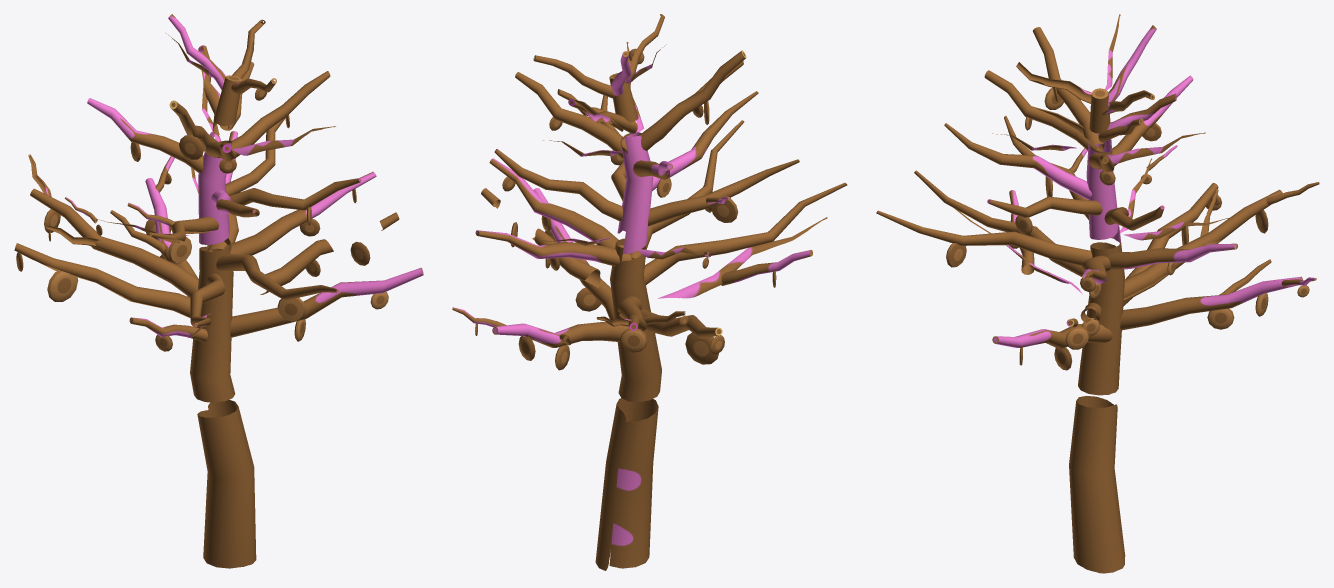
Rendered from Cookie_Tree.FBX.
3 views of the same model, side by side, from view 1: azimuth 30°, elevation 25°; view 2: azimuth 150°, elevation 25°; view 3: azimuth 270°, elevation 25° (orthographic). The views are drawn at different scales.
Visible parts, largest first — view 1: Arbol; view 2: Arbol; view 3: Arbol.
Boxes of the visible parts, box(x1,y1,x2,y2) form: Arbol: box(14, 14, 423, 568); Arbol: box(452, 14, 847, 570); Arbol: box(876, 14, 1319, 573).
Size of the model in its own units: 4.77 by 7.85 by 6.04.
Materials: 2 (2 with a texture image).
